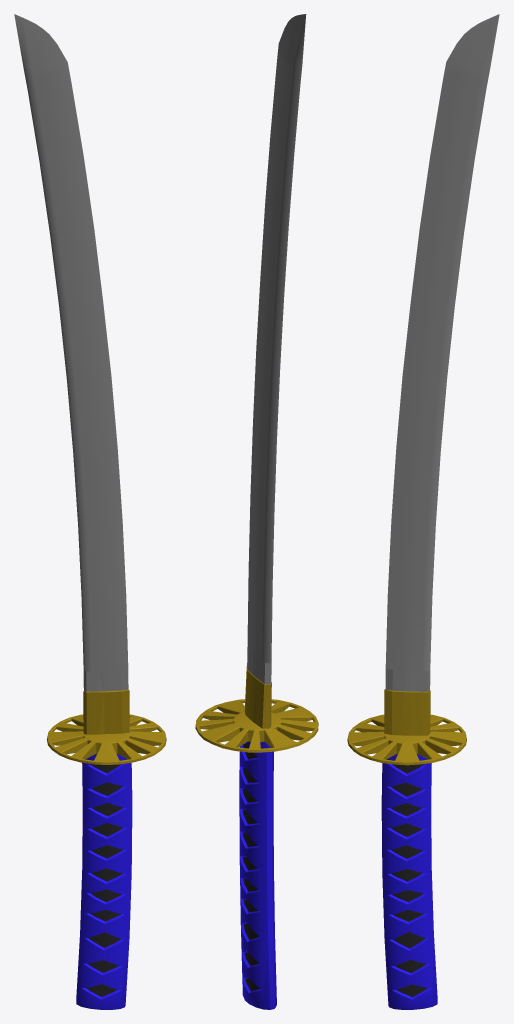
The model's file is sword_katana.FBX.
3 renders of one model, left to right at view 1: azimuth 90°, elevation 25°; view 2: azimuth 210°, elevation 25°; view 3: azimuth 270°, elevation 25°, orthographic. The views are drawn at different scales.
Visible parts, largest first — view 1: sword_Katana; view 2: sword_Katana; view 3: sword_Katana.
Part boxes in pixels (x1,y1,x2,y2): sword_Katana: (14, 14, 166, 1009); sword_Katana: (195, 14, 318, 1009); sword_Katana: (347, 14, 499, 1009).
Bounding box in the file's own units: 3.87 × 35.28 × 4.91.
